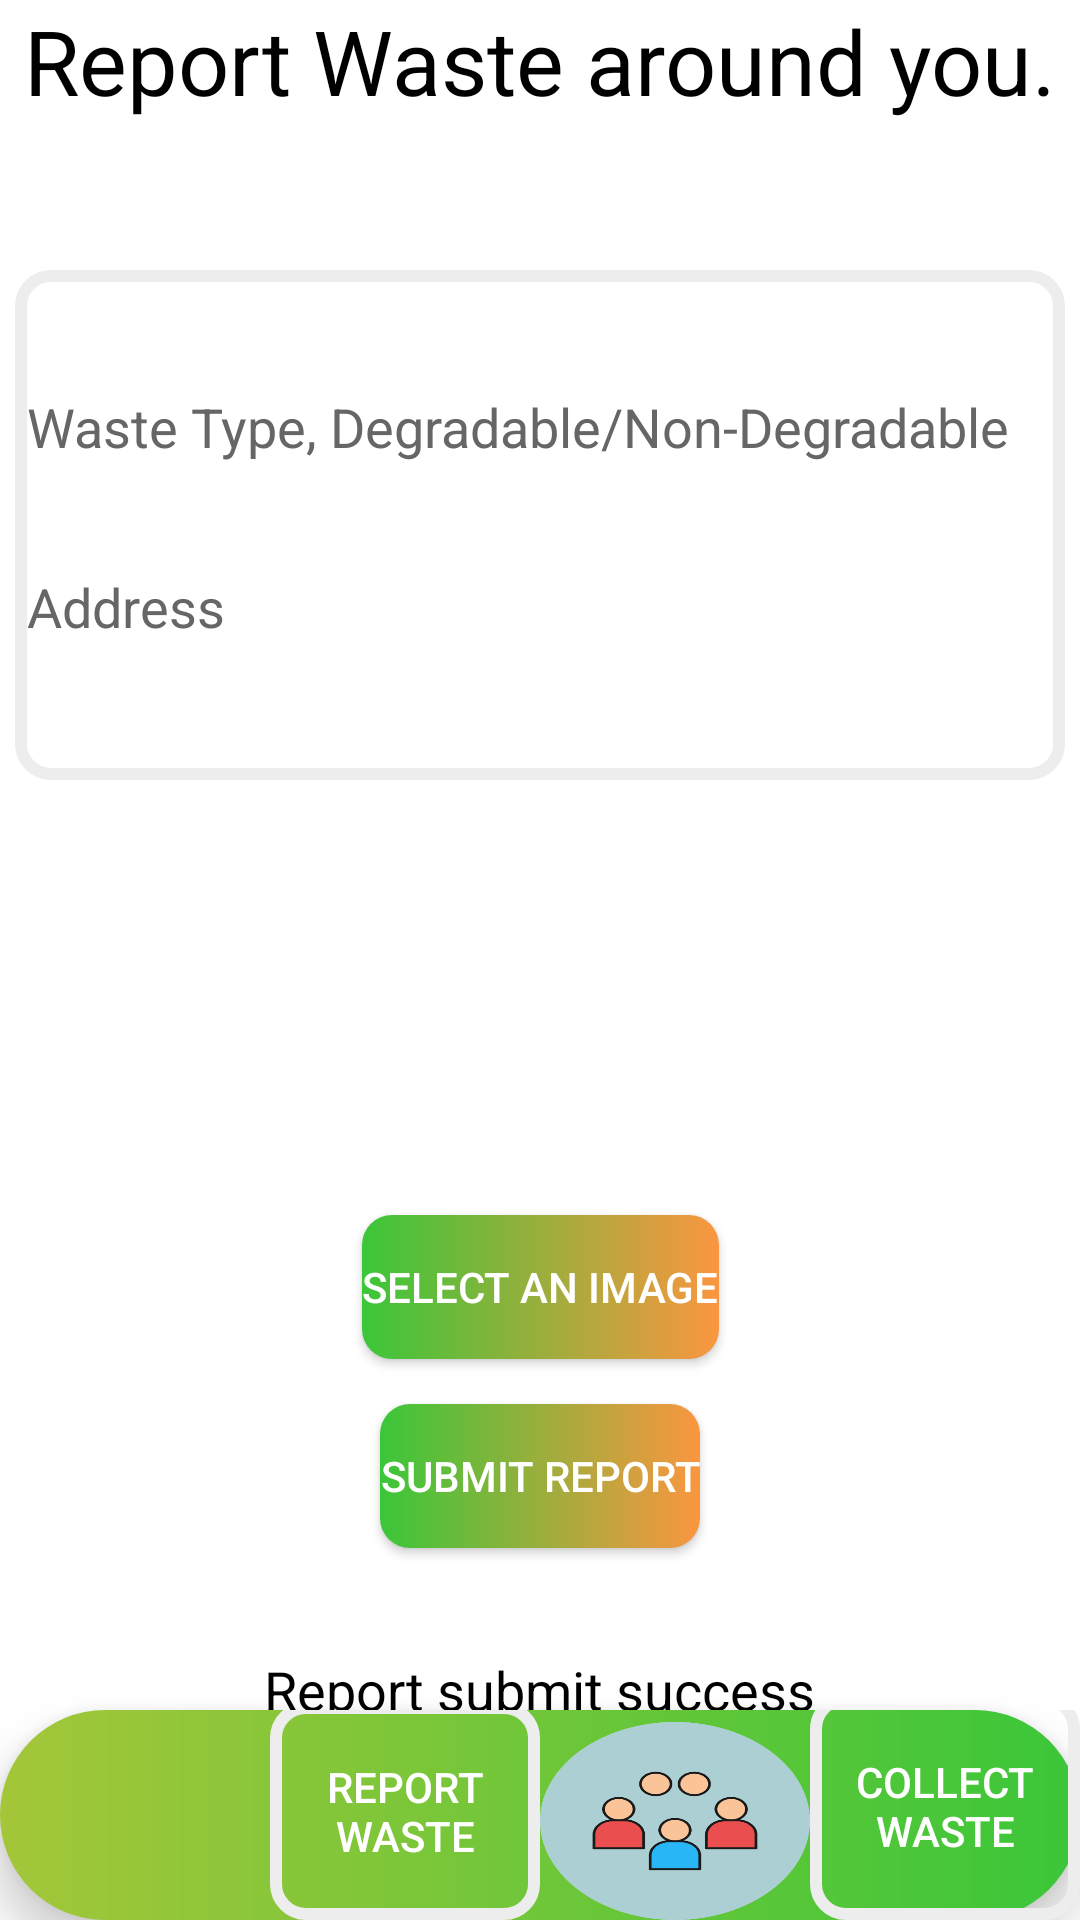

Point at icon controls on the screen. Image size 1080 x 1920, points as point (x, y).
fam: point (675, 1821)
